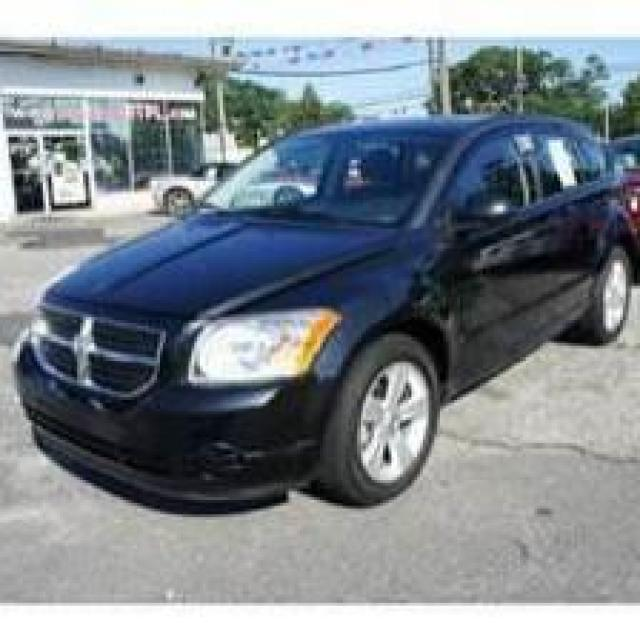damaged: (417, 257, 586, 363)
